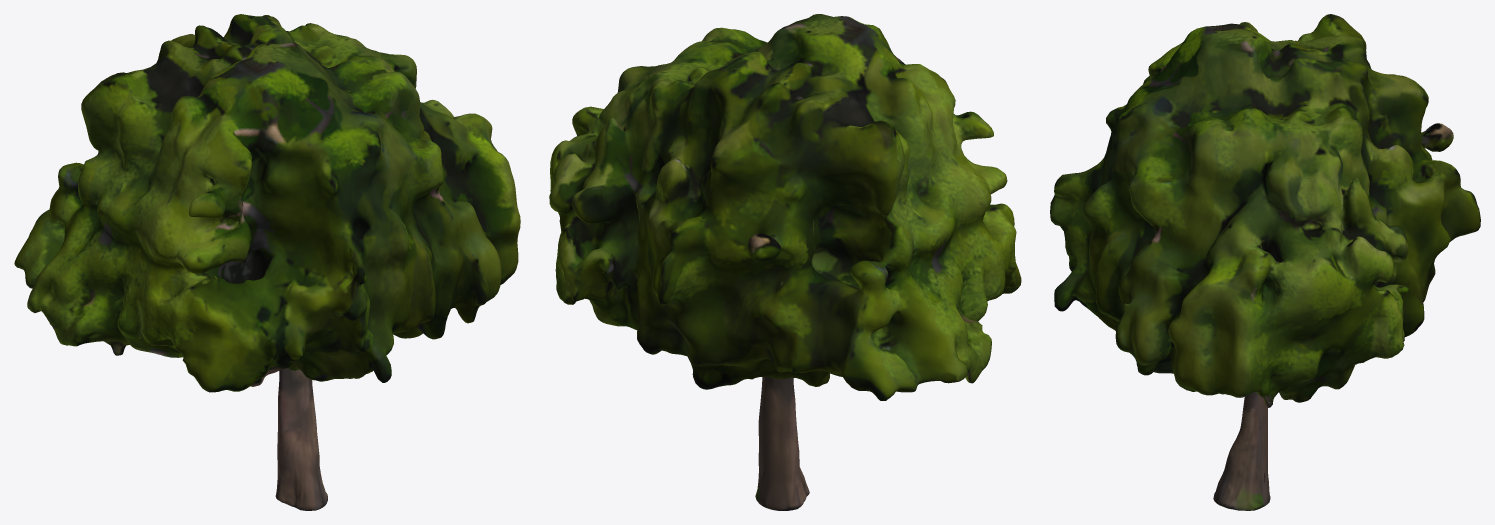
File: oak_tree.glb
3 views of the same model, side by side, from view 1: azimuth 30°, elevation 25°; view 2: azimuth 150°, elevation 25°; view 3: azimuth 270°, elevation 25° (orthographic). The views are drawn at different scales.
Parts seen in each view (by area): view 1: model_0; view 2: model_0; view 3: model_0.
Boxes of the visible parts, <box> form: model_0: <box>14,14,520,510</box>; model_0: <box>549,14,1021,510</box>; model_0: <box>1050,14,1480,510</box>.
Bounding box in the file's own units: 0.9954 × 1 × 0.8672.
Materials: 1 (1 with a texture image).
